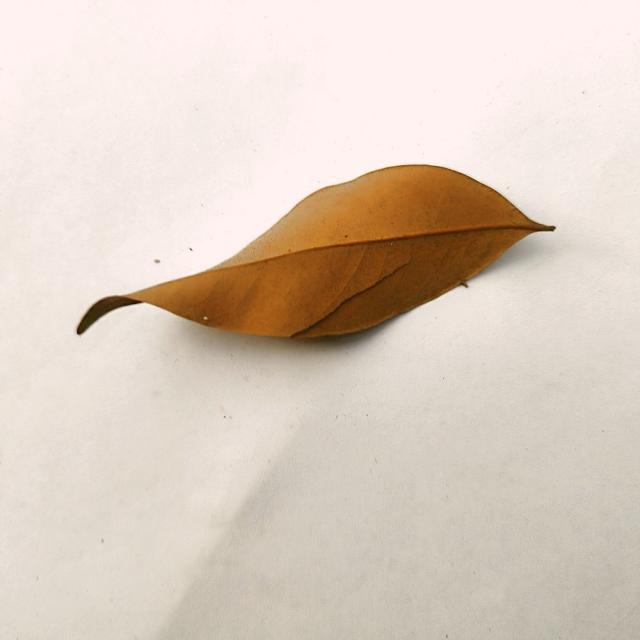Dry_Leaf-Lychee: (76, 165, 555, 343)
